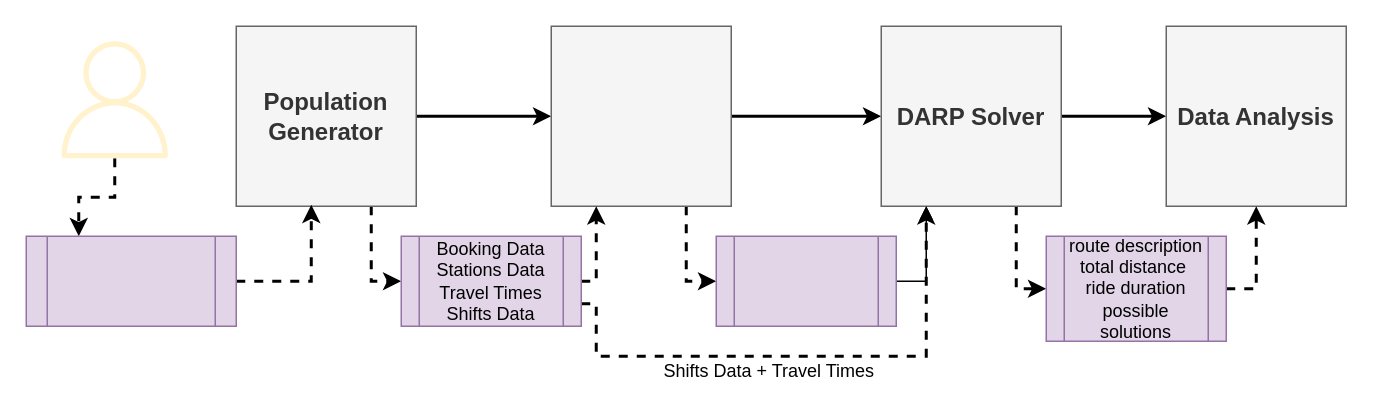
Image size: 1373x413. Some labels were removed from this diagram. Here are the shapes that lost their labels. From the top down, the centre of each, then its label:
At point (640, 115): "Station Allocation Solver".
At point (130, 280): "N Bookings Timeslot Range Number of Shifts Number of Stations".
At point (805, 280): "Active Sation data with timewindows and n. of passengers".
